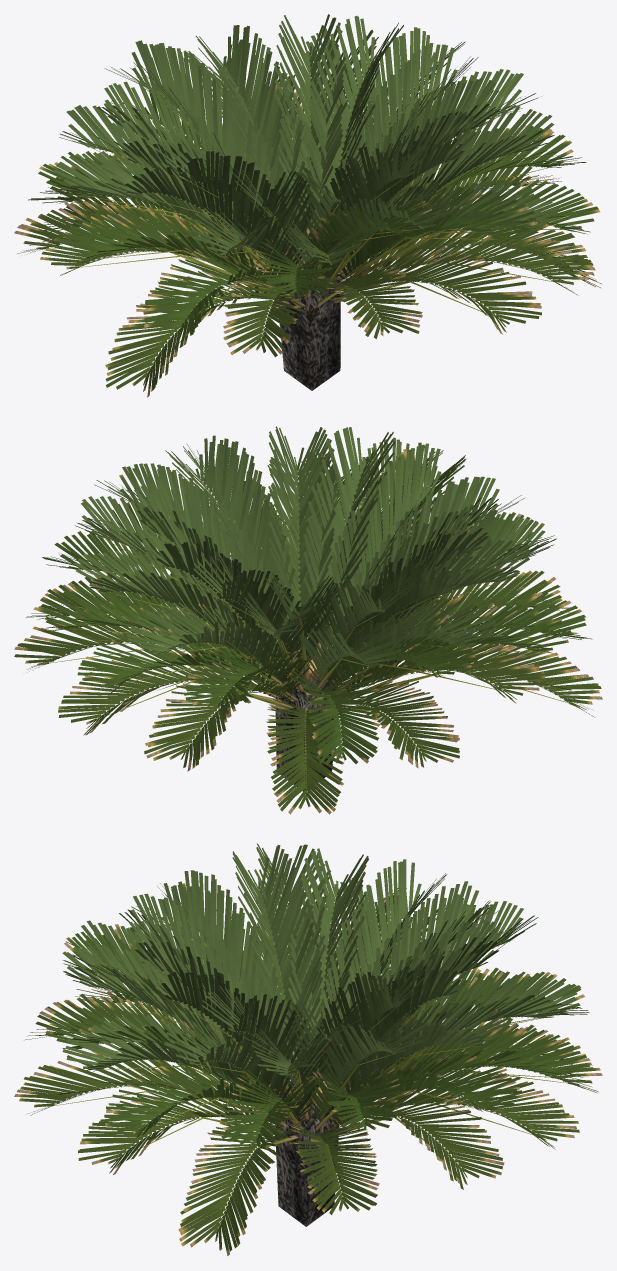
Rendered from Cycas revoluta HD_Standard 1 trunk mat 0_LOD3.fbx.
3 views of the same model, one above another, from view 1: azimuth 30°, elevation 25°; view 2: azimuth 150°, elevation 25°; view 3: azimuth 270°, elevation 25° (orthographic).
Visible parts, largest first — view 1: Cycas_revoluta_HD; view 2: Cycas_revoluta_HD; view 3: Cycas_revoluta_HD.
Boxes of the visible parts, bbox=[...] form: Cycas_revoluta_HD: bbox=[14, 14, 602, 397]; Cycas_revoluta_HD: bbox=[14, 426, 602, 814]; Cycas_revoluta_HD: bbox=[14, 843, 602, 1255].
Size of the model in its own units: 0.7574 by 0.416 by 0.7485.
7 materials, 7 textured.
